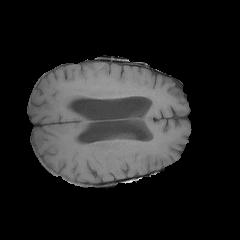glioma: (61, 79, 155, 105)
